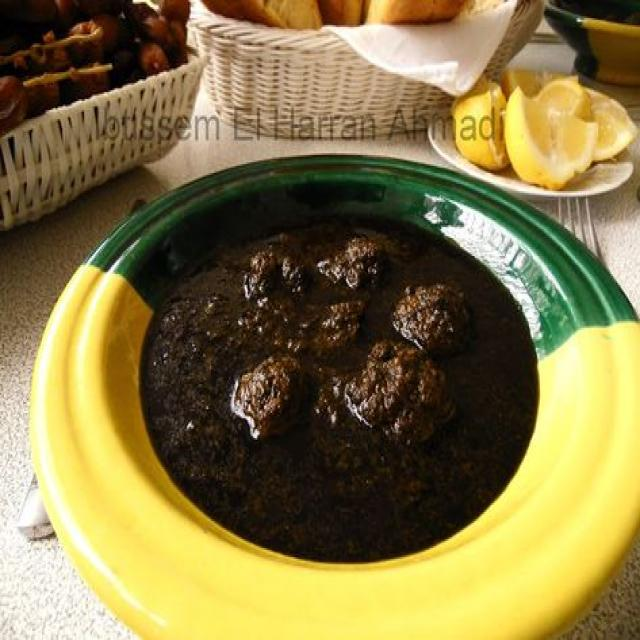Melloukhia: (106, 175, 605, 604)
